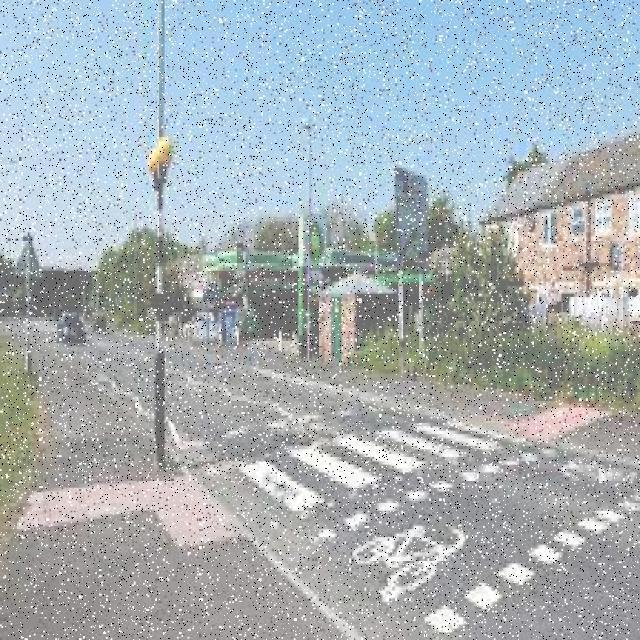Pedestrian crosswalk: (232, 419, 526, 538)
